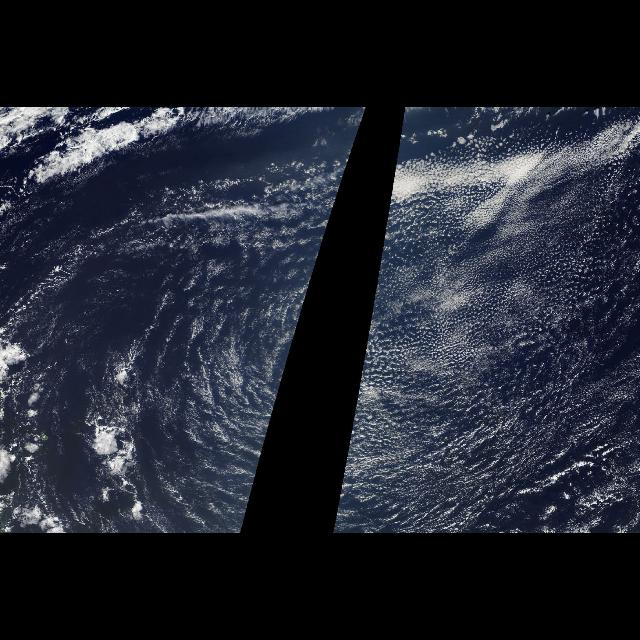Fish: (100, 185, 330, 242)
Sugar: (332, 132, 640, 532), (128, 132, 360, 532)
